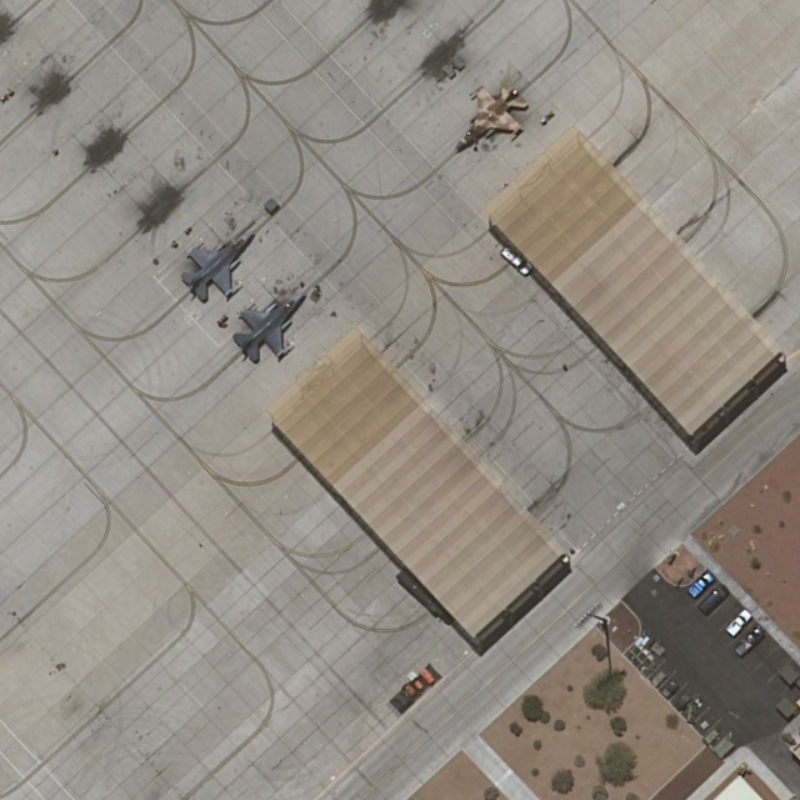A5: (227, 280, 313, 366), (176, 228, 260, 307), (447, 78, 534, 154)
